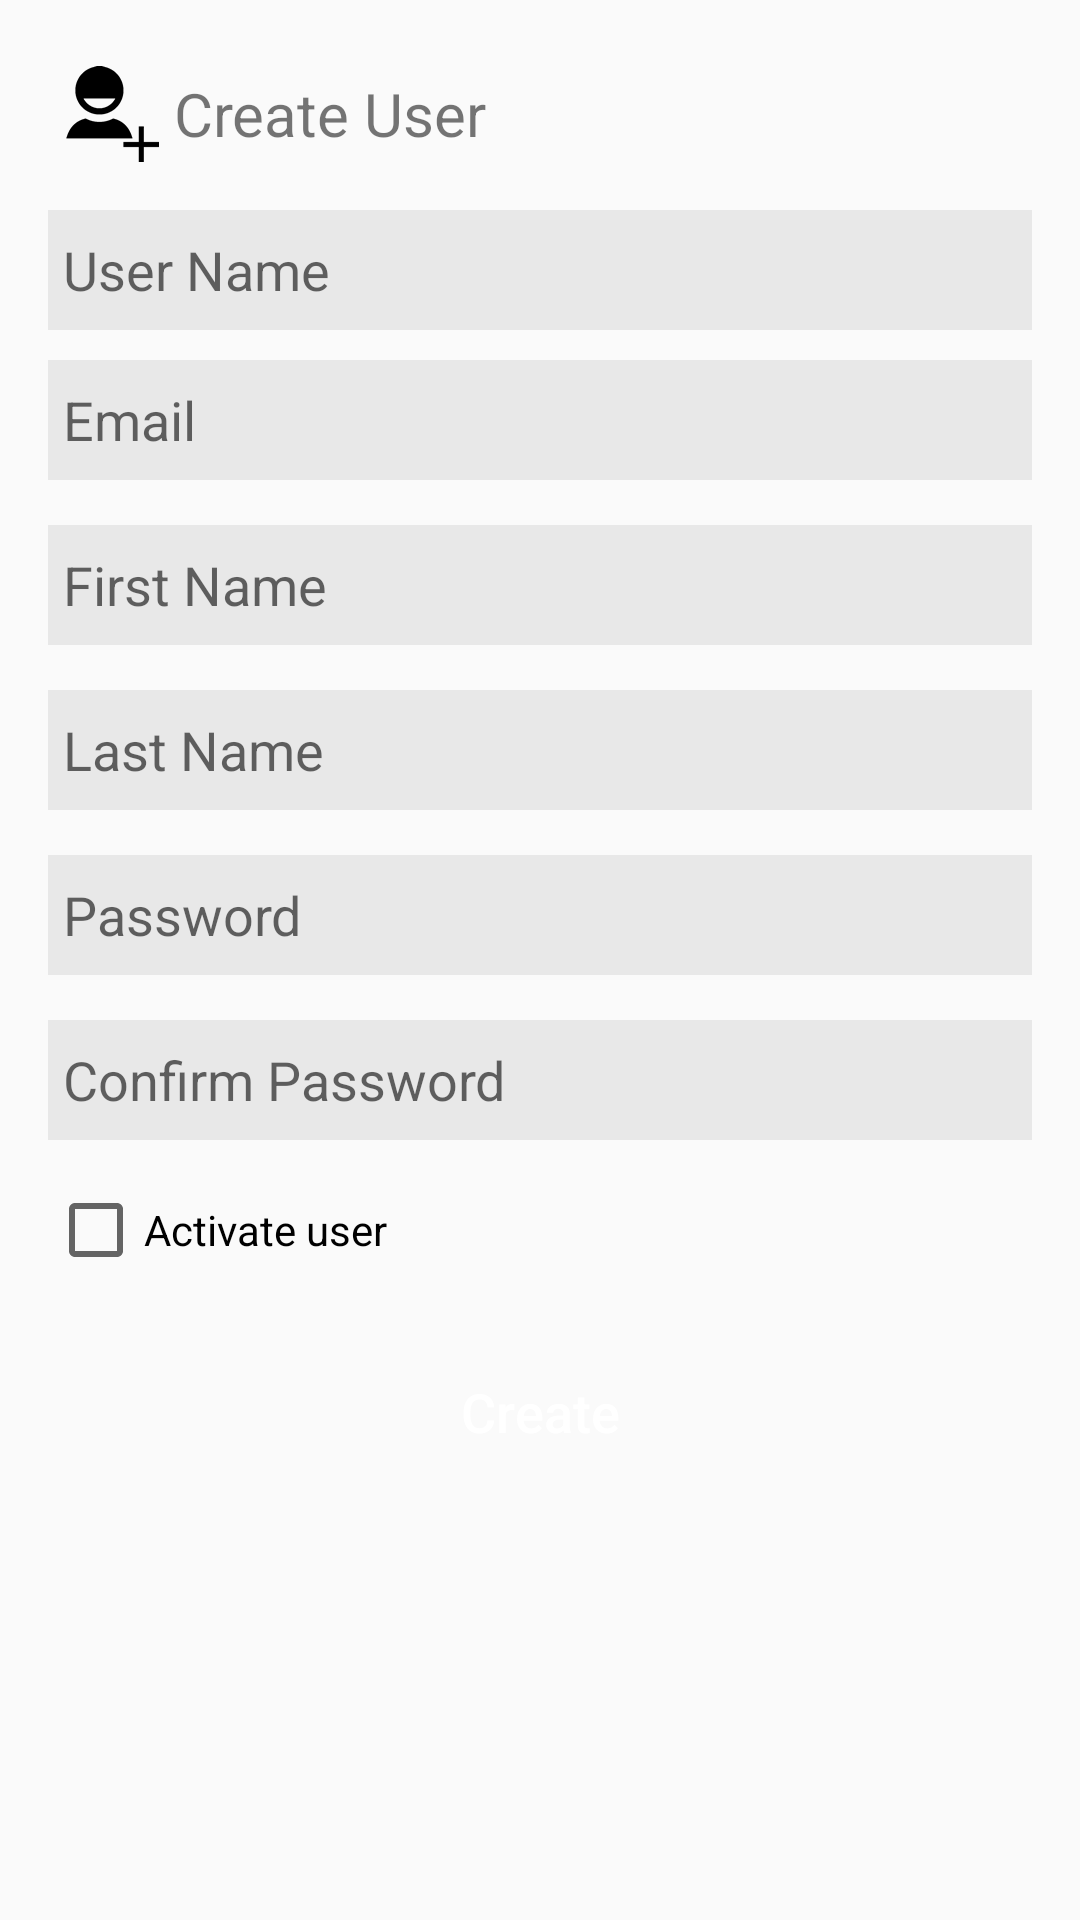

Locate icon controls on the screen. Image size 1080×1920, boxes as (x1, y1, x2, y2).
om user add: (66, 66, 159, 162)
